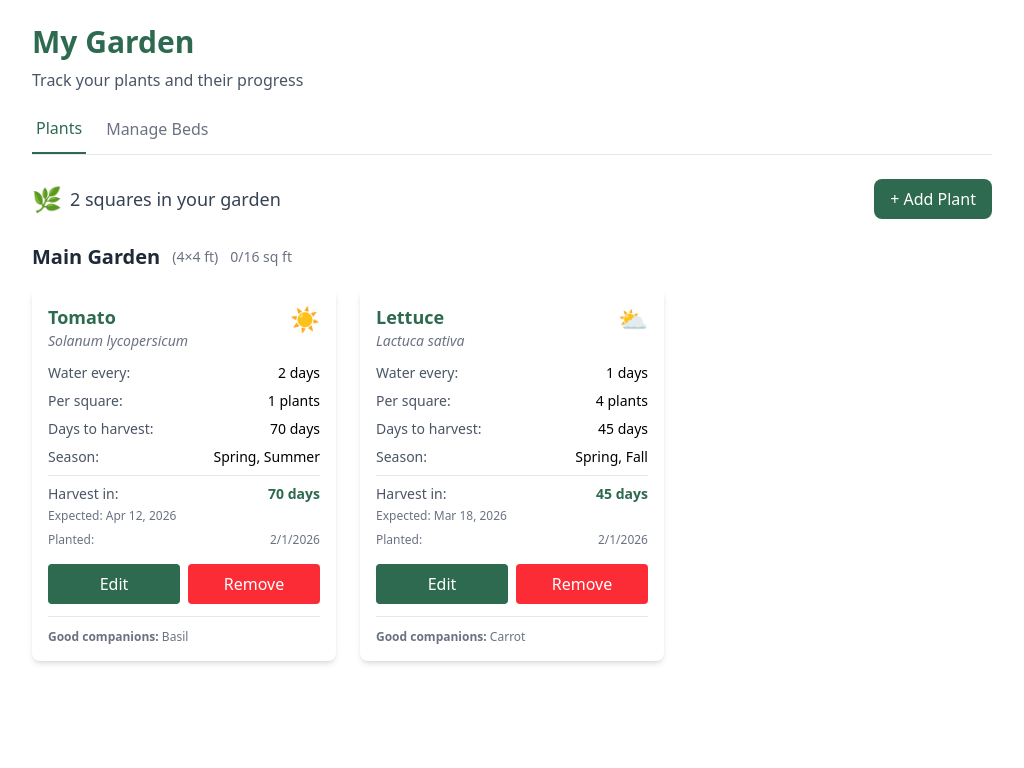
it: MyGarden › with garden plants › opens library modal when add plant button clicked
Click the button "+ Add Plant": (933, 199) [874, 179, 992, 219]
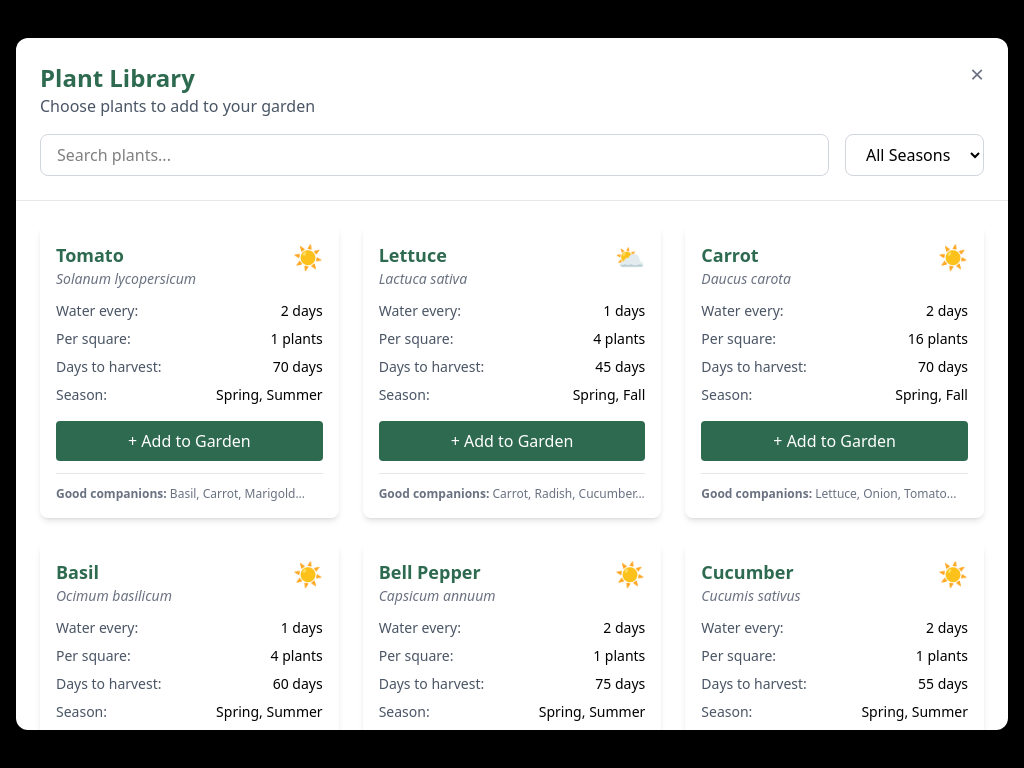
Check: the heading "Plant Library" is shown, box [40, 61, 195, 94]
